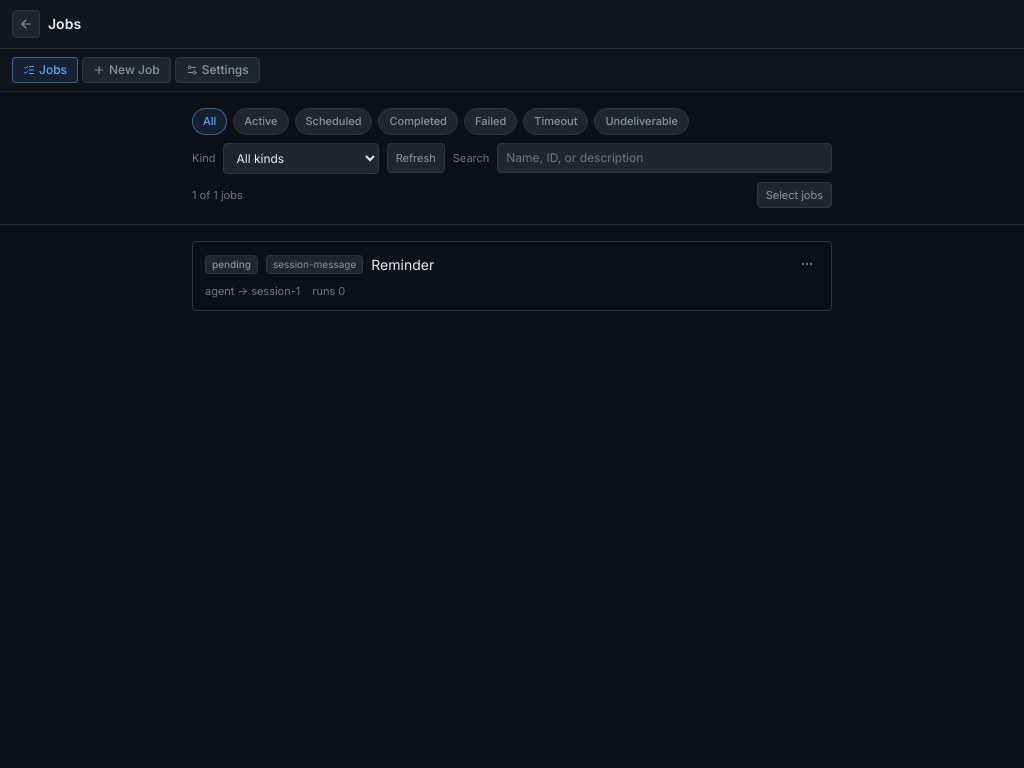
Scenario: JobsView schedule payload compatibility › keeps a message Job object schedule read-only without pause controls
Click the text "Reminder". click: (403, 264)
box: [371, 256, 434, 272]
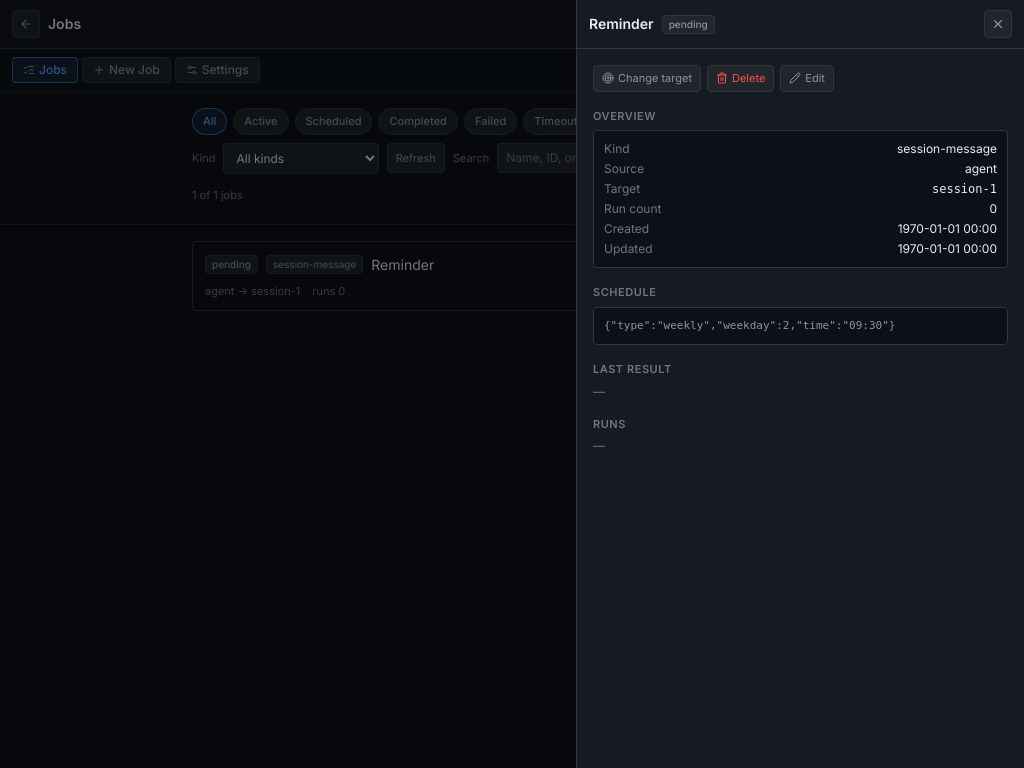
expect the dialog named "Job detail" is shown: met, box [576, 0, 1023, 767]
expect the text "{\"type\":\"weekly\",\"weekday\":2,\"time\":\"09:30\"}" is shown: met, box [593, 306, 1008, 345]
